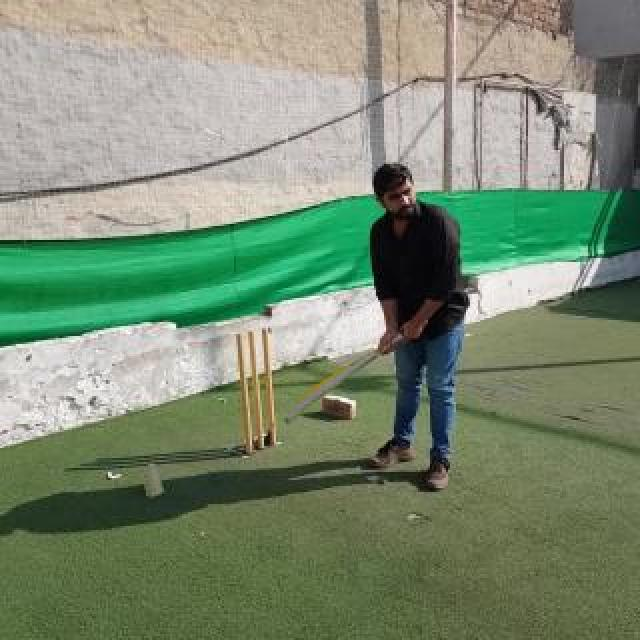bat: (284, 318, 428, 422)
